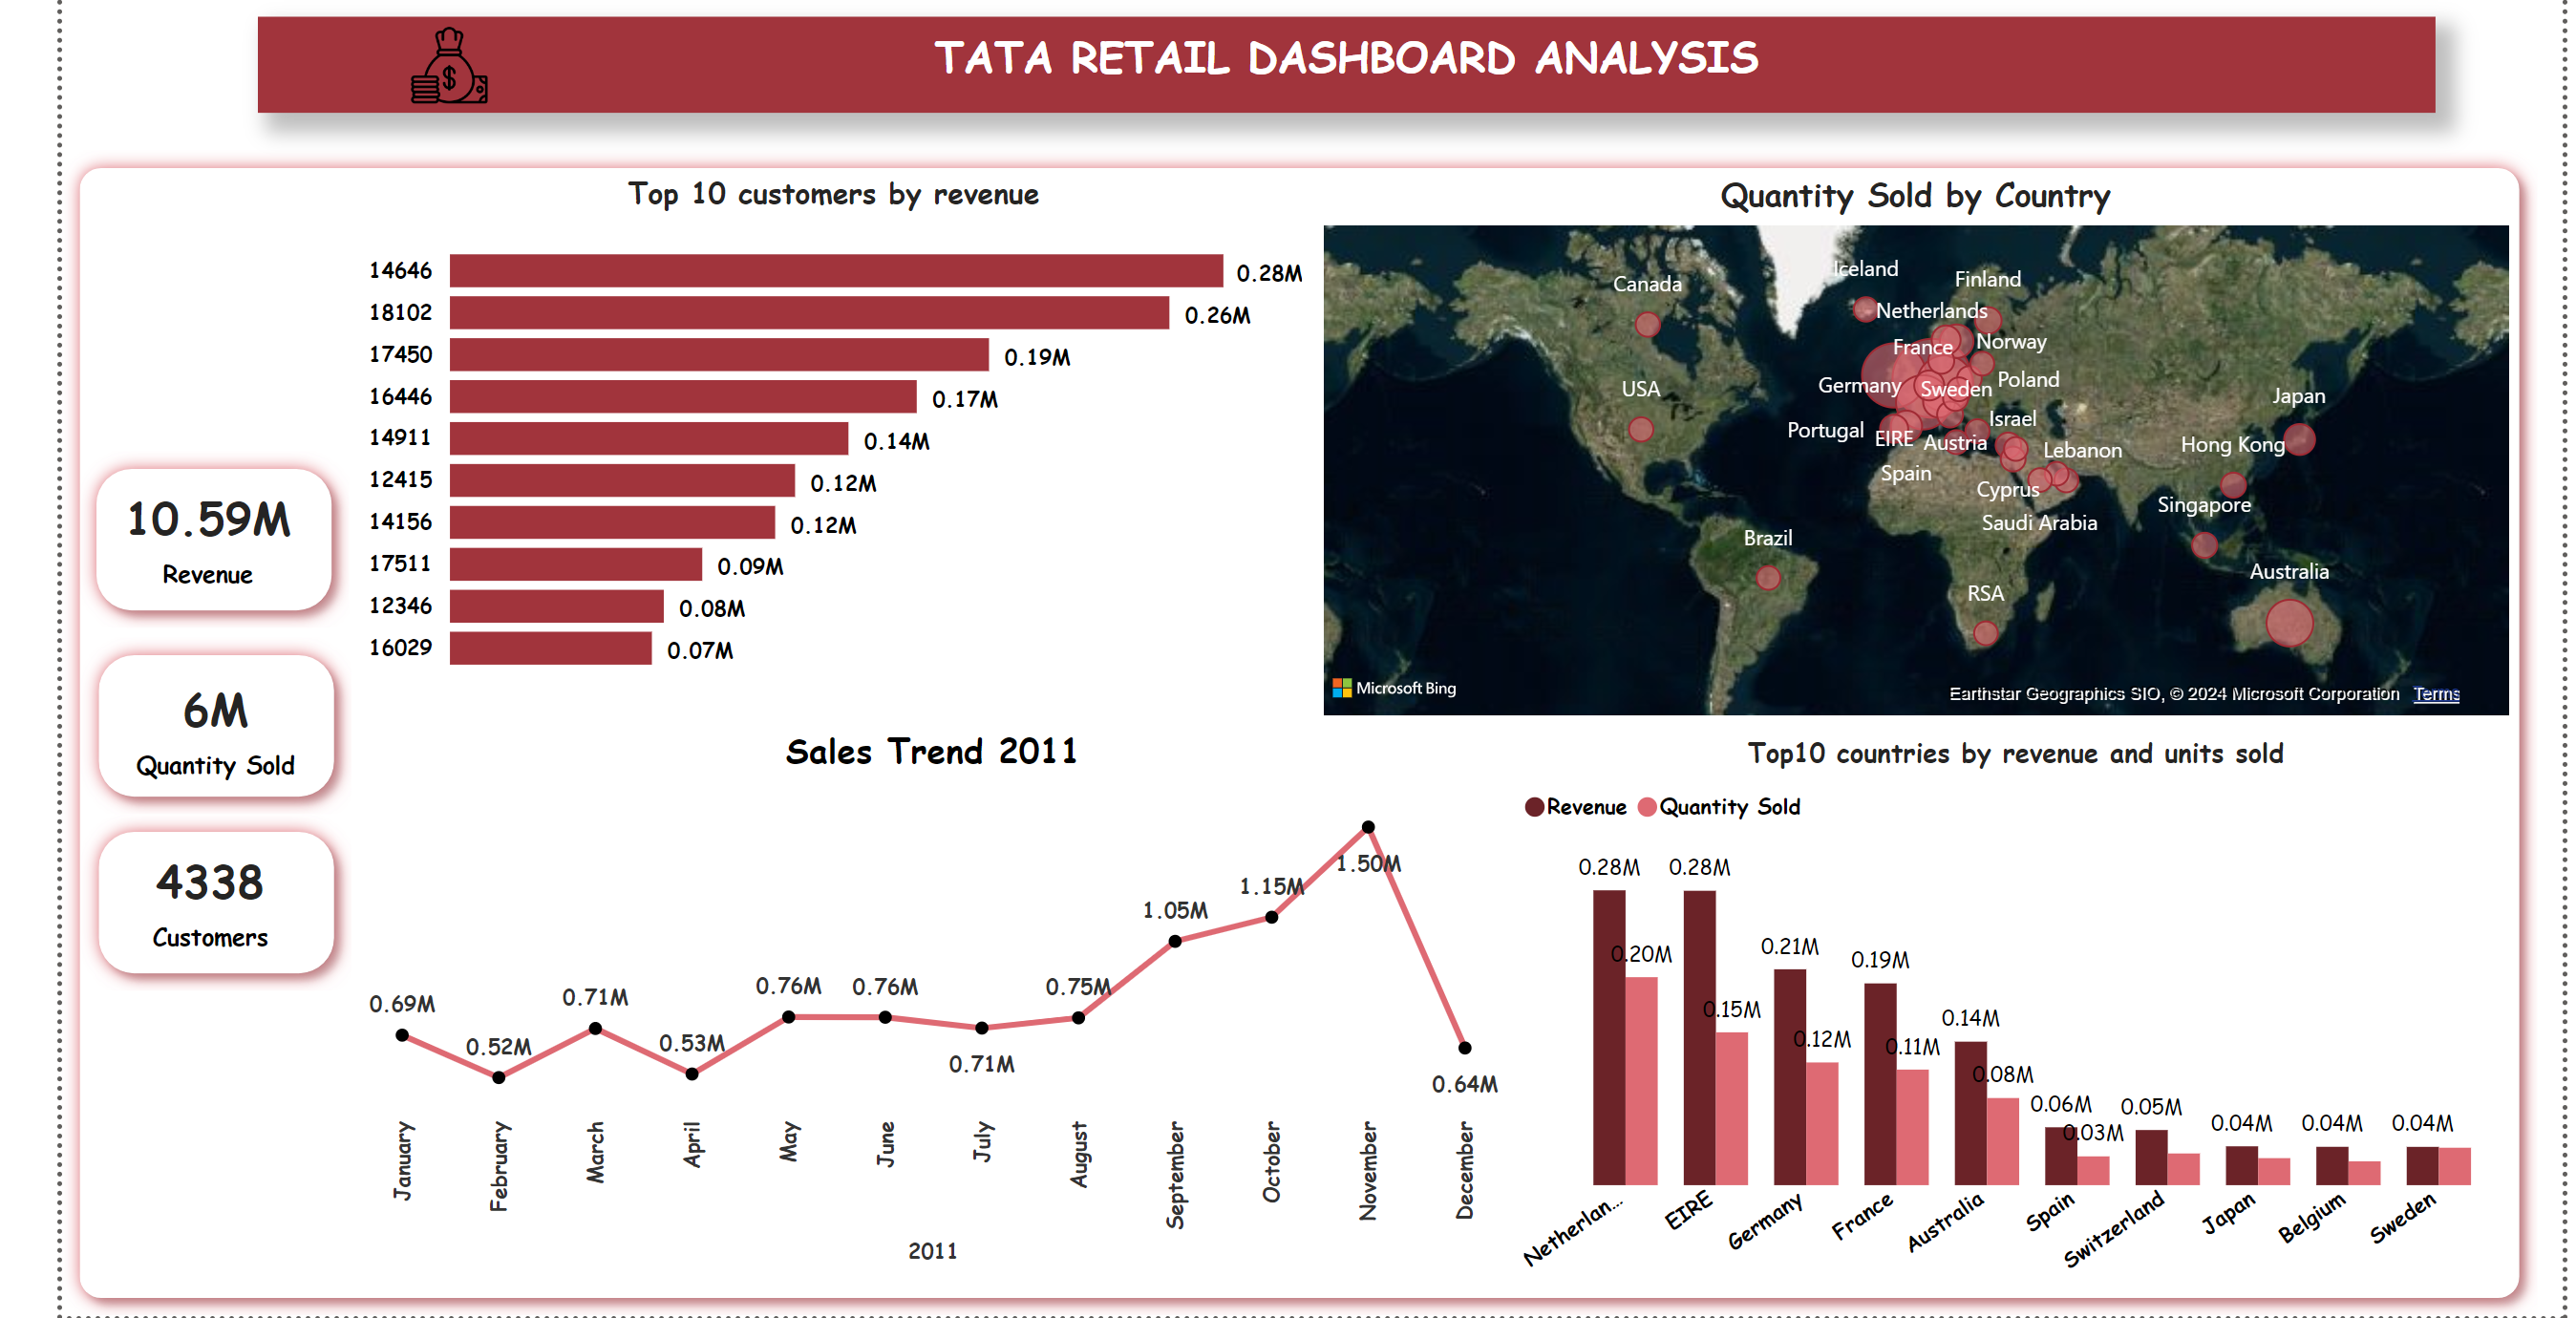

The dashboard page shown, as its layout file describes it:
{"tool":"powerbi","page":{"name":"RetailDashboard","canvas":[1280,720],"ordinal":0},"visuals":[{"type":"shape","box":[0,123.5,1267,596.5],"z":0},{"type":"shape","box":[148.1,268.7,1109.2,298.9],"z":1000},{"type":"lineChart","title":"Sales Trend 2011","fields":{"Y":["Calculations.Revenue"],"Category":["Order_dimension_table.InvoiceDate.Variation.Date Hierarchy.Year","Order_dimension_table.InvoiceDate.Variation.Date Hierarchy.Month"]},"box":[149.4,418.2,593.7,290.7],"z":2000},{"type":"shape","box":[0,134.4,296.1,577.2],"z":3000},{"type":"clusteredColumnChart","title":"Top10 countries by revenue and units sold","fields":{"Category":["Sales.Country"],"Y":["Calculations.Revenue","Calculations.Quantity Sold"]},"box":[743.1,422.3,514.1,286.5],"z":4000},{"type":"clusteredBarChart","title":"Top 10 customers by revenue","fields":{"Category":["Sales.CustomerID"],"Y":["Calculations.Revenue"]},"box":[150.8,134.4,489.5,266],"z":5000},{"type":"map","fields":{"Category":["Sales.Country"],"Size":["Calculations.Quantity Sold"]},"box":[640.3,134.4,617,283.8],"z":6000},{"type":"shape","box":[8.2,277,138.5,90.5],"z":7000},{"type":"shape","box":[9.6,372.9,138.5,90.5],"z":8000},{"type":"shape","box":[9.6,463.4,138.5,90.5],"z":9000},{"type":"card","fields":{"Values":["Calculations.Revenue"]},"box":[24.7,286.5,100.1,69.9],"z":10000},{"type":"card","fields":{"Values":["Calculations.Quantity Sold"]},"box":[31.5,383.9,93.2,69.9],"z":11000},{"type":"card","fields":{"Values":["Calculations.Customers"]},"box":[31.5,471.6,87.7,69.9],"z":12000},{"type":"textbox","box":[100.1,54.8,1114.7,49.4],"z":13000},{"type":"image","box":[100.1,54.8,196.1,49.4],"z":13001}]}

Visuals, with their boxes on the page's 1280x720 design canvas (x1, y1, x2, y2). These are canvas units, not pixel positions in the 2576x1318 screenshot, which may show the page scaled, cropped or inside an application window:
shape: {"x1": 0, "y1": 124, "x2": 1267, "y2": 720}
shape: {"x1": 148, "y1": 269, "x2": 1257, "y2": 568}
"Sales Trend 2011" lineChart: {"x1": 149, "y1": 418, "x2": 743, "y2": 709}
shape: {"x1": 0, "y1": 134, "x2": 296, "y2": 712}
"Top10 countries by revenue and units sold" clusteredColumnChart: {"x1": 743, "y1": 422, "x2": 1257, "y2": 709}
"Top 10 customers by revenue" clusteredBarChart: {"x1": 151, "y1": 134, "x2": 640, "y2": 400}
map - Sales.Country x Calculations.Quantity Sold: {"x1": 640, "y1": 134, "x2": 1257, "y2": 418}
shape: {"x1": 8, "y1": 277, "x2": 147, "y2": 368}
shape: {"x1": 10, "y1": 373, "x2": 148, "y2": 463}
shape: {"x1": 10, "y1": 463, "x2": 148, "y2": 554}
card - Calculations.Revenue: {"x1": 25, "y1": 286, "x2": 125, "y2": 356}
card - Calculations.Quantity Sold: {"x1": 32, "y1": 384, "x2": 125, "y2": 454}
card - Calculations.Customers: {"x1": 32, "y1": 472, "x2": 119, "y2": 542}
textbox: {"x1": 100, "y1": 55, "x2": 1215, "y2": 104}
image: {"x1": 100, "y1": 55, "x2": 296, "y2": 104}
